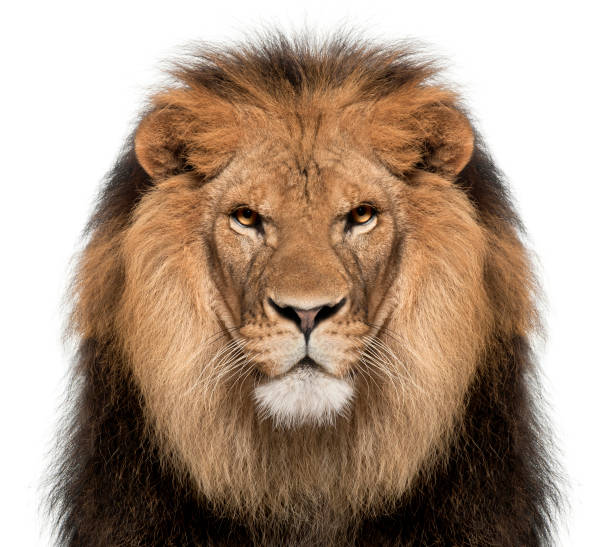lion: (53, 14, 566, 547)
